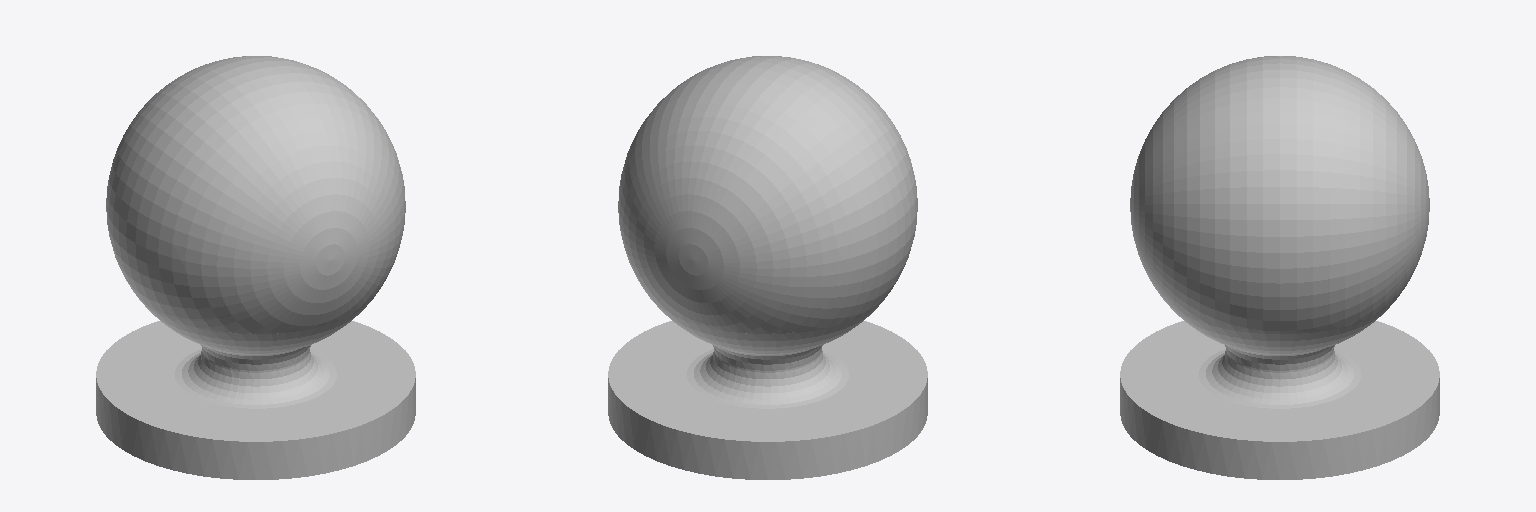
The model's file is RightThumb.obj.
The picture shows the model from 3 angles: view 1: azimuth 30°, elevation 25°; view 2: azimuth 150°, elevation 25°; view 3: azimuth 270°, elevation 25°; orthographic projection.
Visible parts, largest first — view 1: RightThumb; view 2: RightThumb; view 3: RightThumb.
Boxes of the visible parts, box(x1,y1,x2,y2) form: RightThumb: box(96, 56, 415, 479); RightThumb: box(608, 56, 927, 479); RightThumb: box(1120, 56, 1439, 479).
Size of the model in its own units: 11.79 by 15.16 by 11.78.